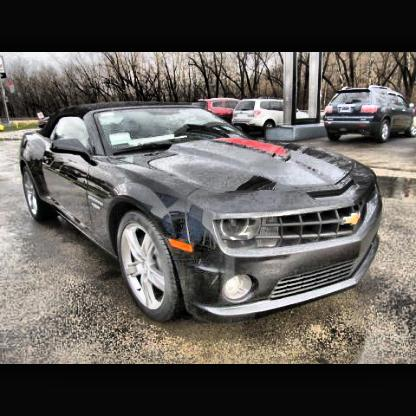Chevrolet Camaro Convertible 2012: (19, 101, 385, 330)
